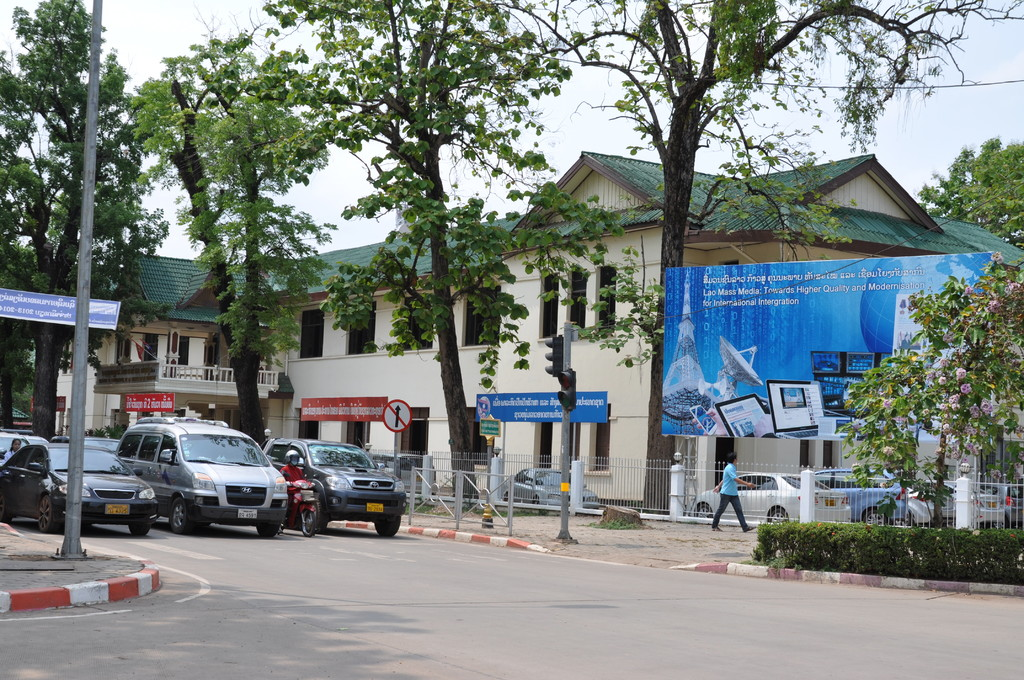no_straight: (383, 397, 414, 433)
